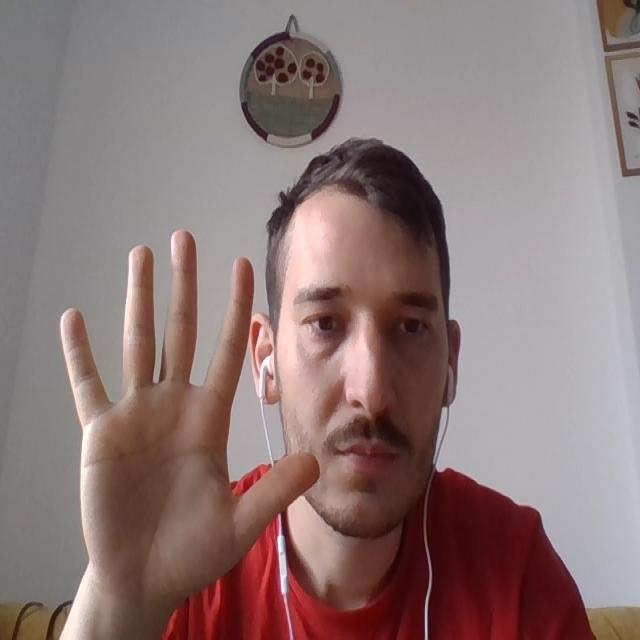hello: (52, 248, 312, 572)
